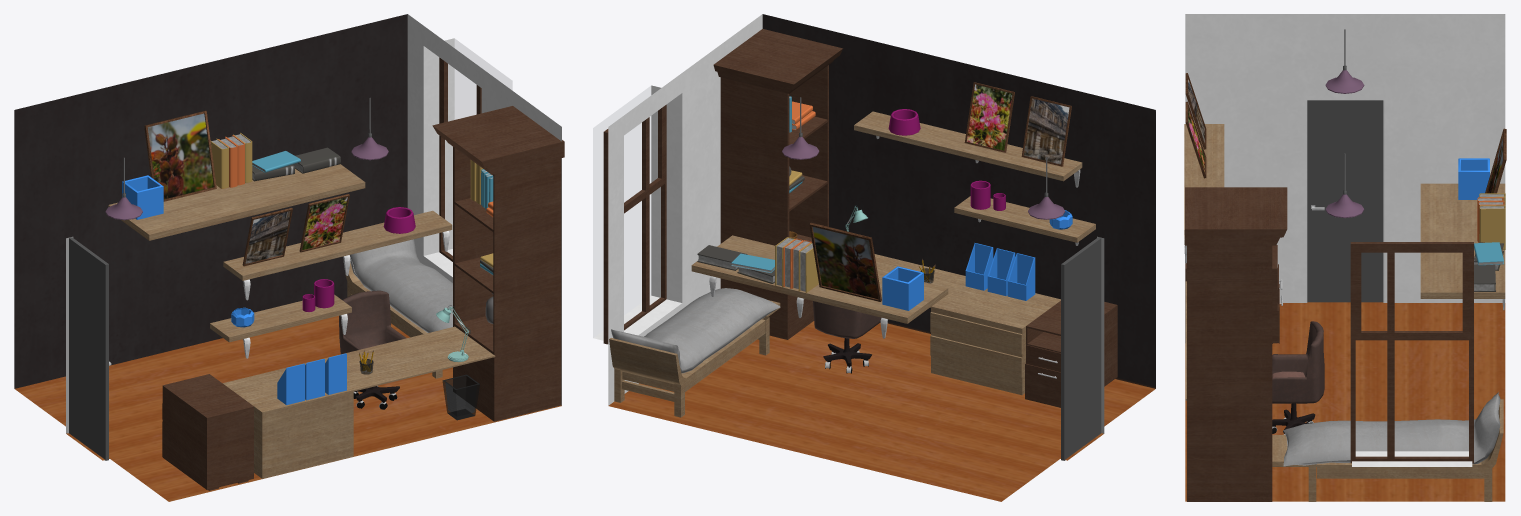
The picture shows the model from 3 angles, left to right: view 1: azimuth 30°, elevation 25°; view 2: azimuth 150°, elevation 25°; view 3: azimuth 270°, elevation 25°; orthographic projection. The views are drawn at different scales.
Visible parts, largest first — view 1: Walls1, polySurface39, Photos, polySurface35, polySurface27, polySurface28, polySurface30, polySurface26, Books, polySurface41, polySurface55, polySurface57 (+10 smaller); view 2: Walls1, polySurface39, Photos, polySurface35, polySurface26, polySurface53, Books, polySurface27, polySurface28, polySurface42, polySurface41, Asset_1 (+13 smaller); view 3: Walls1, polySurface39, polySurface35, polySurface53, polySurface26, polySurface27, polySurface42, chair_1_low, Books, polySurface41, Photos, Lamp1 (+3 smaller).
Boxes of the visible parts, <box> form: Walls1: <box>14,14,561,501</box>; polySurface39: <box>432,106,564,421</box>; Photos: <box>144,110,349,266</box>; polySurface35: <box>69,237,108,460</box>; polySurface27: <box>108,164,365,240</box>; polySurface28: <box>223,326,495,413</box>; polySurface30: <box>254,391,353,478</box>; polySurface26: <box>349,239,452,332</box>; Books: <box>210,133,493,274</box>; polySurface41: <box>223,210,452,280</box>; polySurface55: <box>206,408,253,489</box>; polySurface57: <box>162,387,205,488</box>; Walls1: <box>593,14,1155,501</box>; polySurface39: <box>713,29,842,339</box>; Photos: <box>809,82,1071,301</box>; polySurface35: <box>1061,237,1101,460</box>; polySurface26: <box>611,288,780,373</box>; polySurface53: <box>603,104,666,344</box>; Books: <box>697,96,818,292</box>; polySurface27: <box>691,235,948,323</box>; polySurface28: <box>874,254,1060,329</box>; polySurface42: <box>609,300,780,393</box>; polySurface41: <box>854,111,1082,181</box>; Asset_1: <box>965,243,1035,300</box>; Walls1: <box>1185,14,1505,501</box>; polySurface39: <box>1185,187,1287,501</box>; polySurface35: <box>1307,100,1383,302</box>; polySurface53: <box>1350,242,1473,463</box>; polySurface26: <box>1283,392,1500,466</box>; polySurface27: <box>1420,183,1505,298</box>; polySurface42: <box>1272,399,1503,478</box>; chair_1_low: <box>1272,321,1324,403</box>; Books: <box>1474,193,1505,291</box>; polySurface41: <box>1184,124,1224,235</box>; Photos: <box>1185,73,1506,193</box>; Lamp1: <box>1325,29,1364,218</box>.
Bounding box in the file's own units: 4.8 × 2.98 × 2.99.
Materials: 8 (3 with a texture image).
